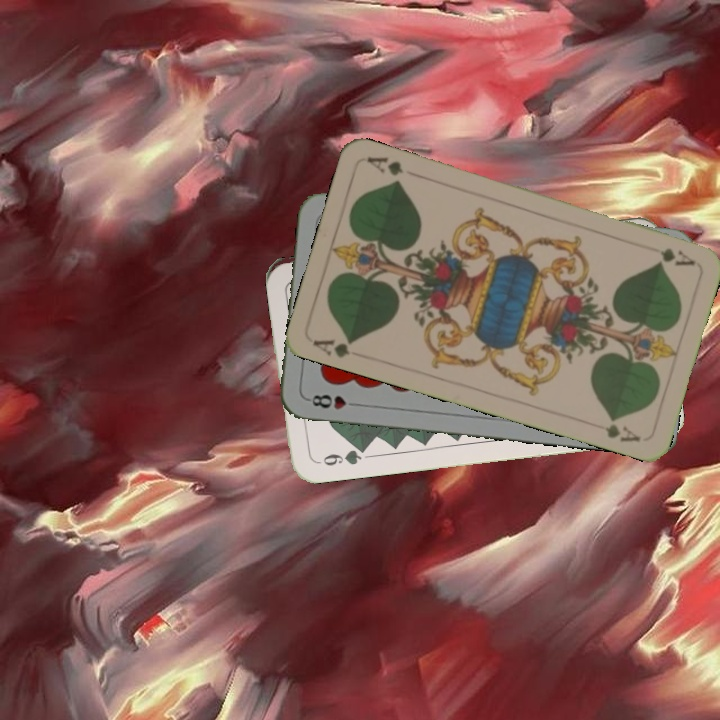G9: (319, 443, 369, 469)
GA: (641, 241, 698, 269), (308, 334, 358, 361)
H8: (303, 390, 363, 412)
